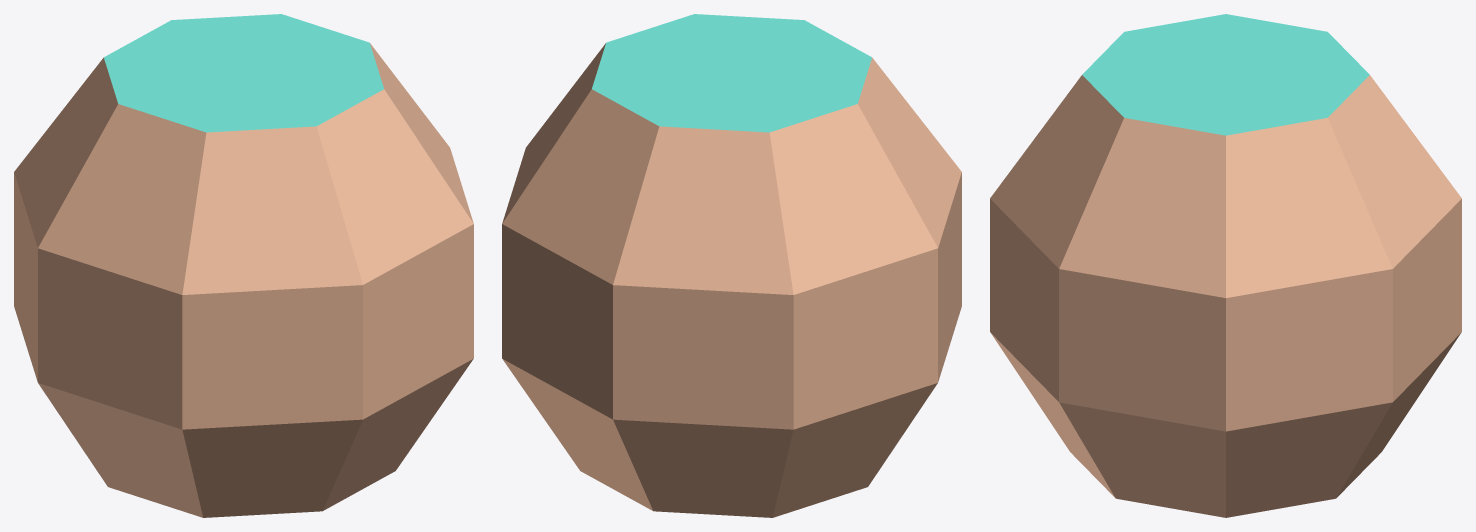
Rendered from rock_smallH.glb.
The picture shows the model from 3 angles, left to right: view 1: azimuth 30°, elevation 25°; view 2: azimuth 150°, elevation 25°; view 3: azimuth 270°, elevation 25°; orthographic projection.
Parts seen in each view (by area): view 1: rock_smallH; view 2: rock_smallH; view 3: rock_smallH.
Boxes of the visible parts, x1=… form: rock_smallH: x1=14, y1=14, x2=473, y2=517; rock_smallH: x1=502, y1=14, x2=961, y2=517; rock_smallH: x1=990, y1=14, x2=1461, y2=517.
Size of the model in its own units: 0.4618 by 0.4074 by 0.4618.
Materials: 1 (1 with a texture image).
